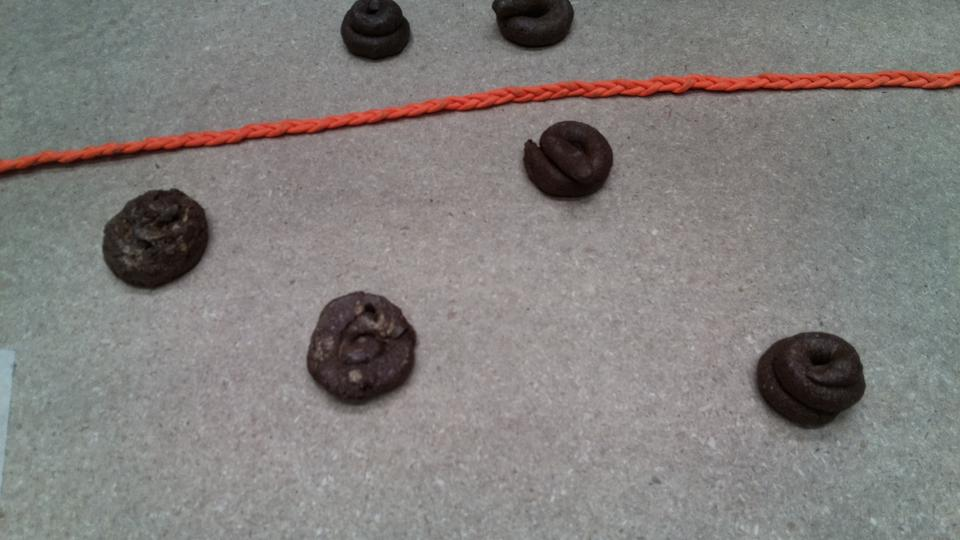poop: (303, 284, 425, 408), (753, 328, 872, 441), (99, 190, 218, 295), (511, 116, 621, 208), (341, 1, 420, 68)
rope: (648, 58, 958, 103), (319, 91, 518, 136), (496, 76, 738, 112), (146, 117, 351, 158), (4, 137, 154, 187)
